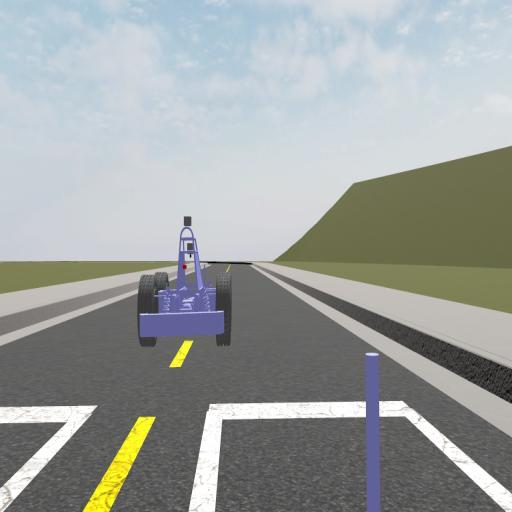ERP-42: (138, 216, 232, 348)
